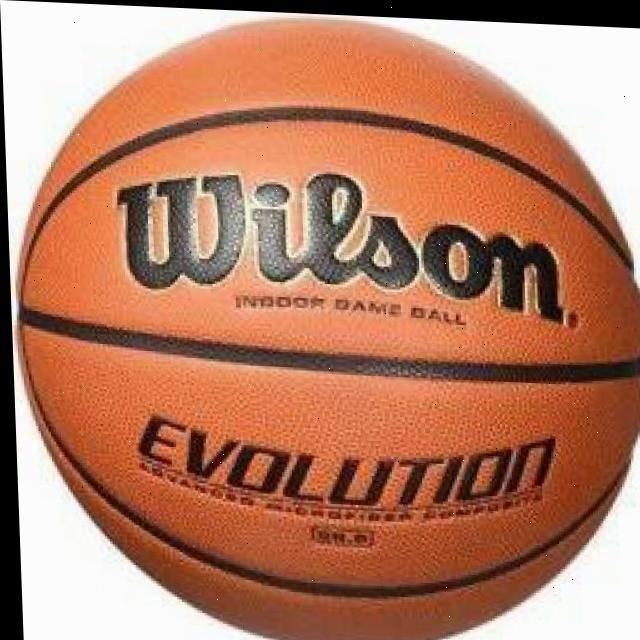Basketball: (8, 6, 640, 640)
